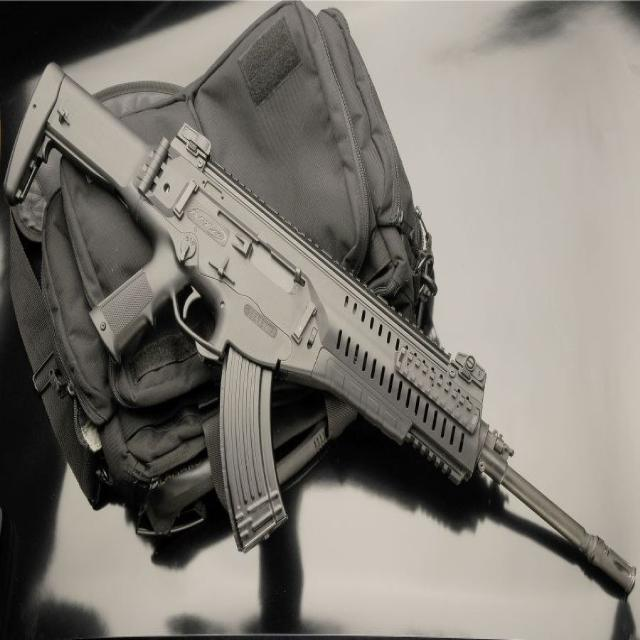firearm: (4, 61, 636, 595)
